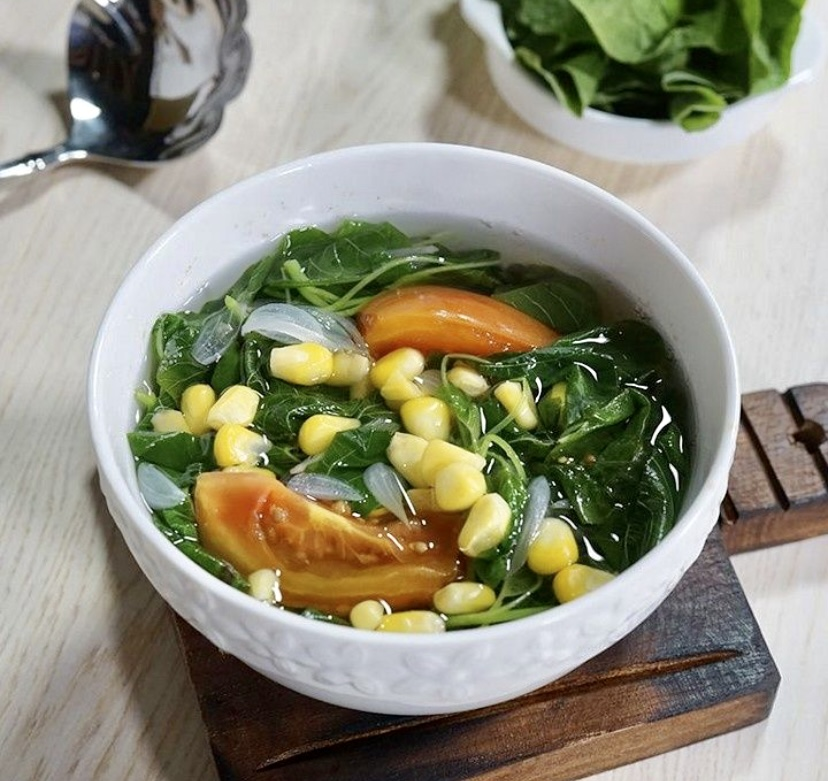Sayur Bayam: (61, 200, 685, 661)
